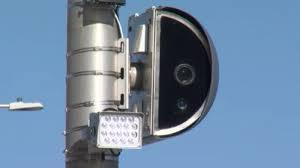Speed-Camera: (86, 3, 223, 154)
